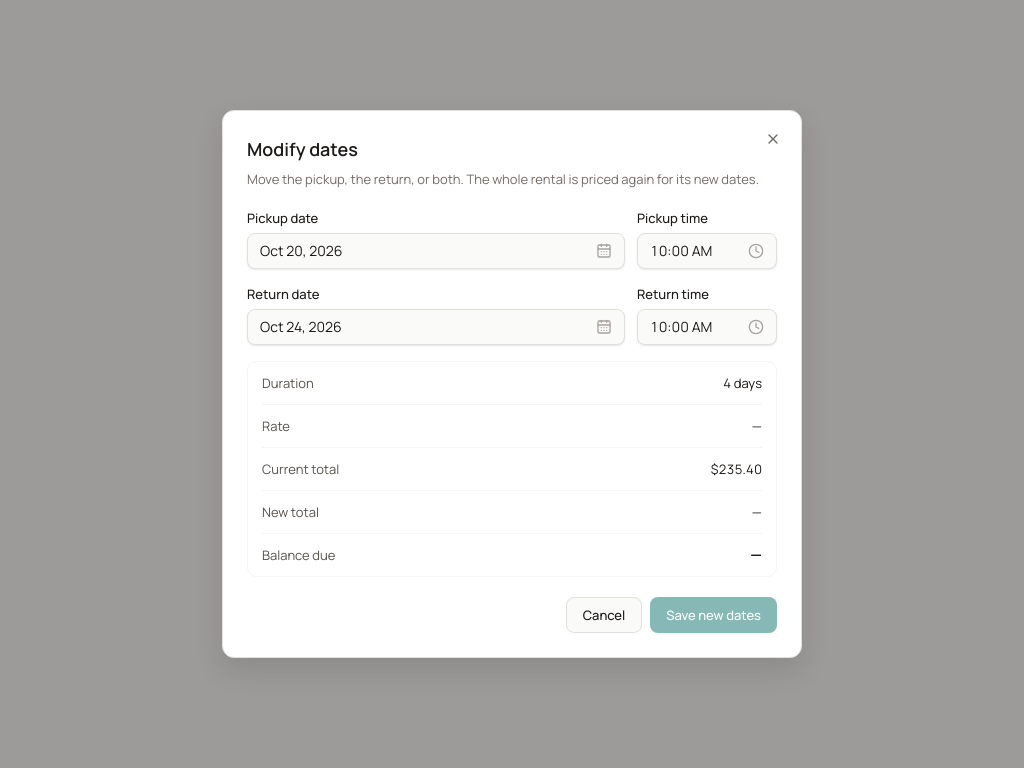
BookingDatesDialog › moves the time to a free hour when the day picked has the current one taken
The width and height of the screenshot is (1024, 768).
Click the button named "Pickup date": coordinates (301, 250) [247,233,625,269]
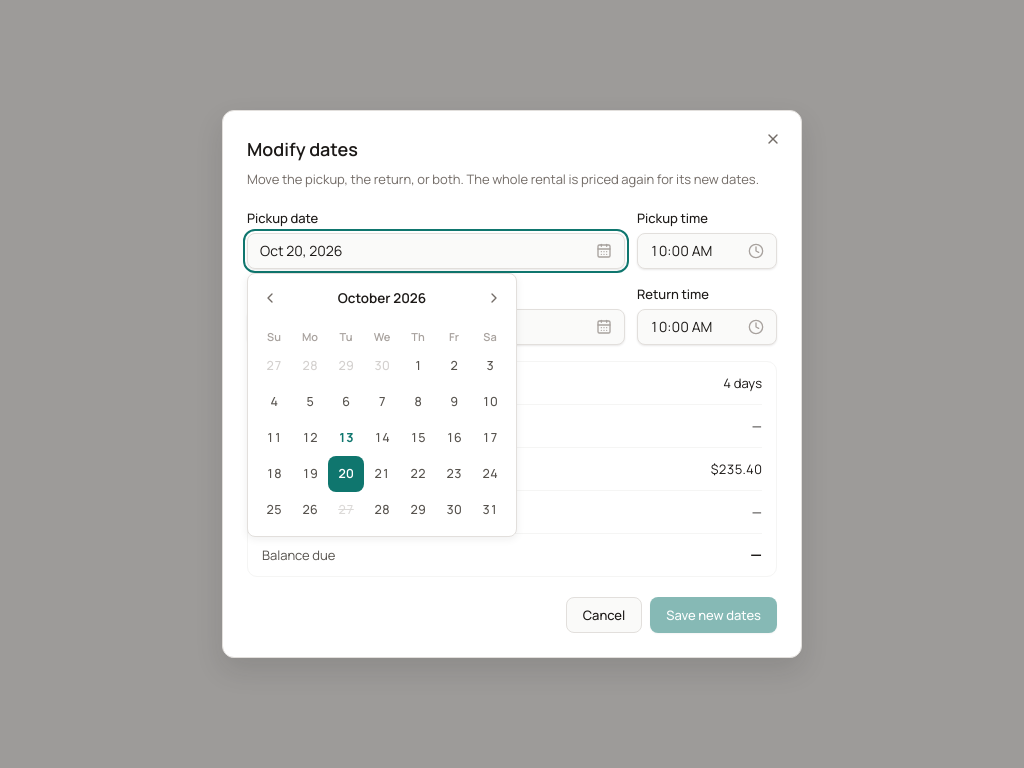
Click the button named "October 28th": coordinates (382, 510) [364,492,400,528]
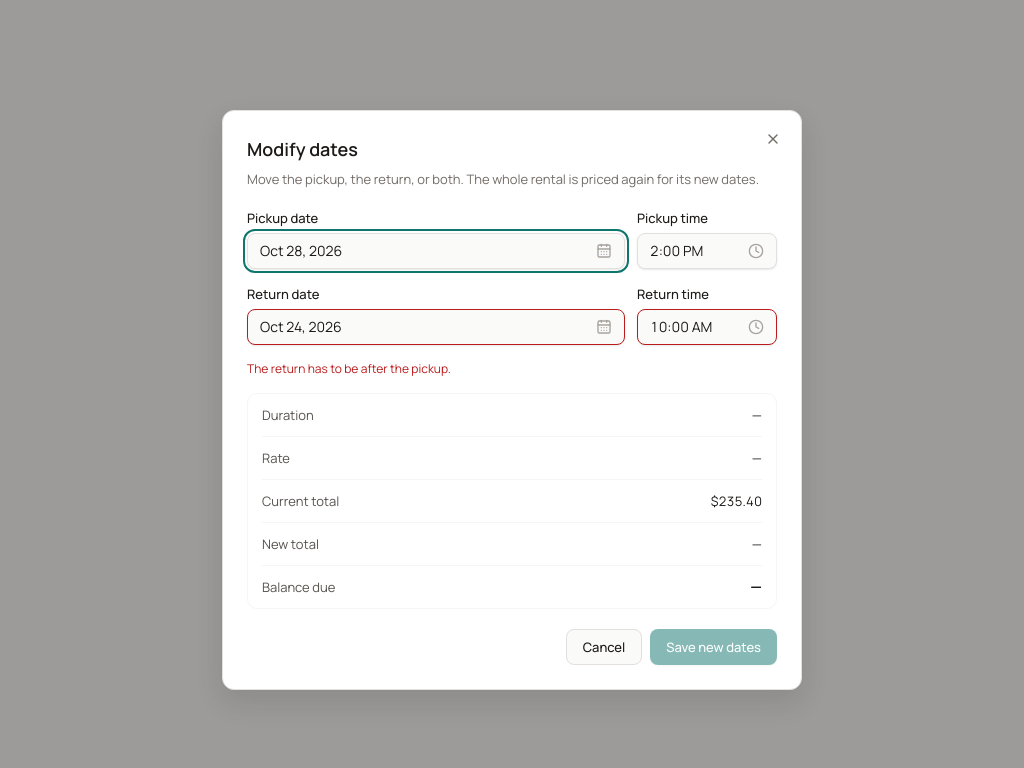
Now the button named "Pickup time" reads "2:00 PM", box [637,233,777,269]
